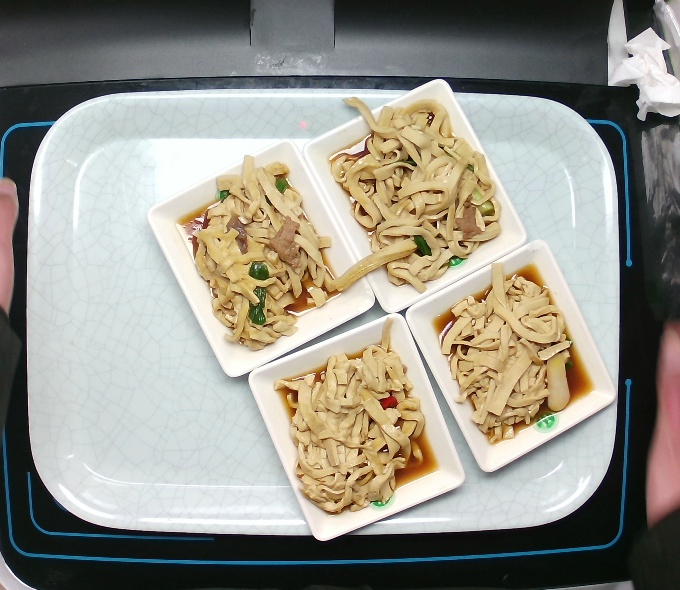wcq-QianZhang: (270, 312, 440, 524), (326, 93, 504, 291), (163, 153, 339, 351), (433, 255, 597, 448)
